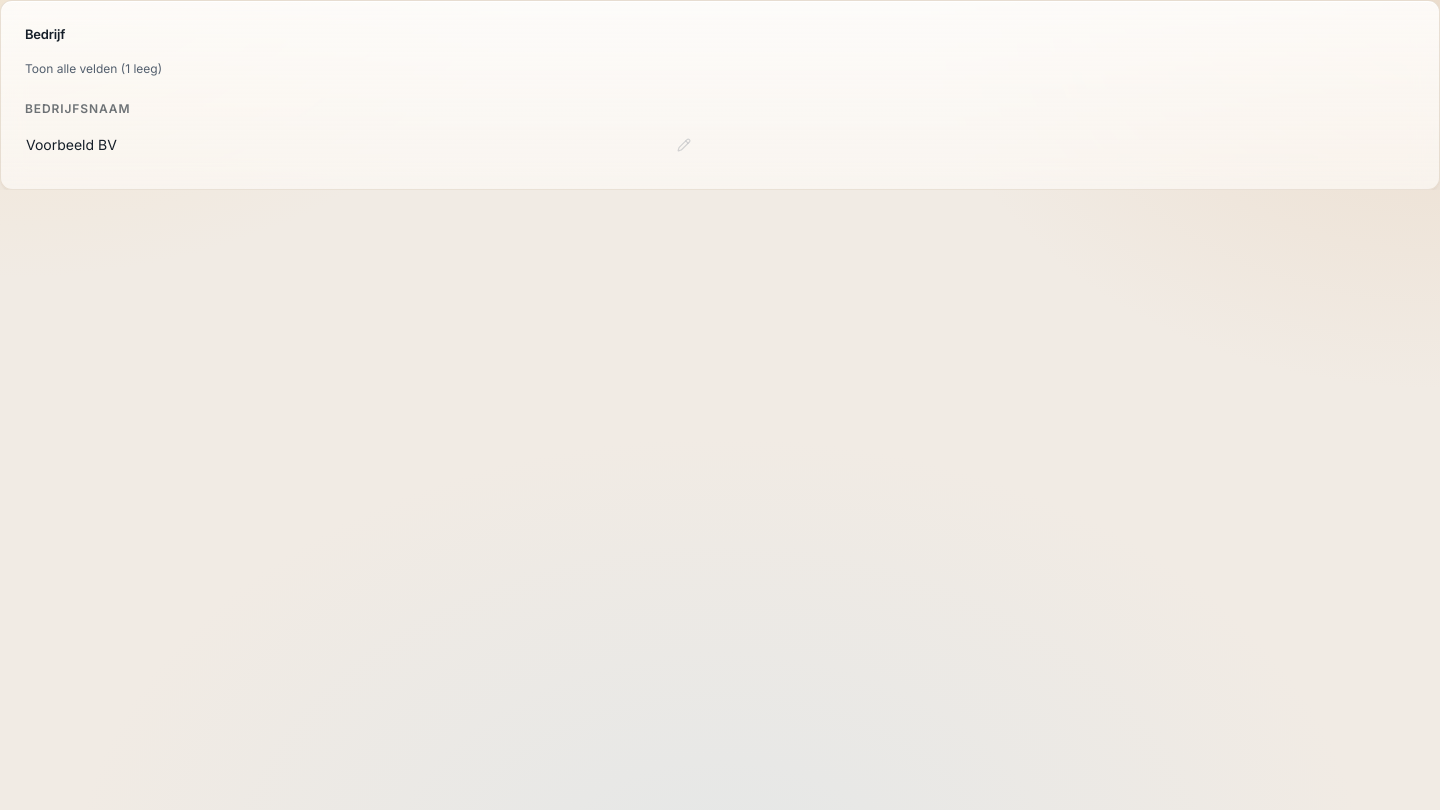
Test case: Direct bewerken Relaties: klik op afzonderlijke veldwaarde › Escape annuleert een tekstveld zonder opslag
The image size is (1440, 810).
Click the button with aria-label "Wijzig Bedrijfsnaam" at (71, 144), box [17,124,700,164]
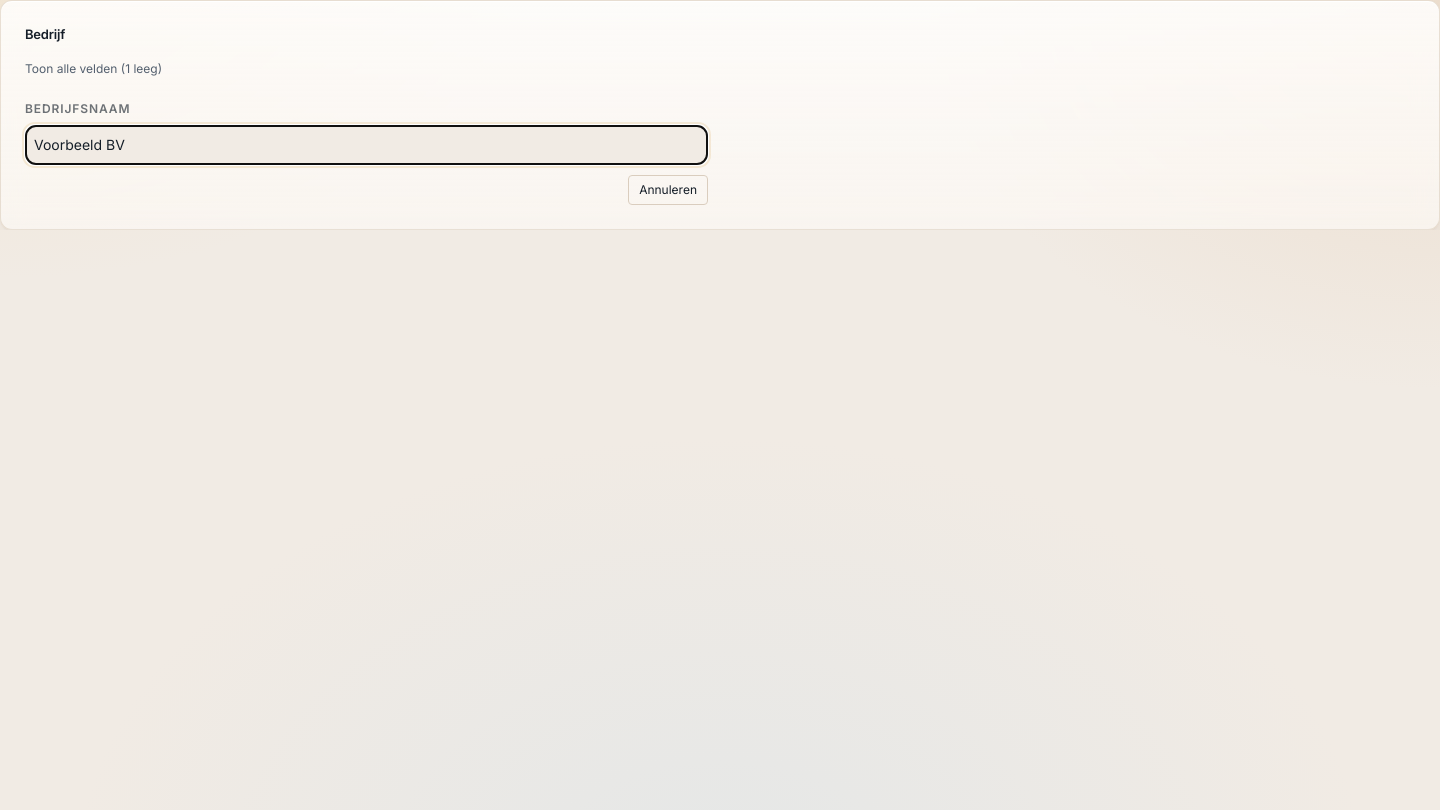
Replace the text in the field labelled "Bedrijfsnaam" with "Niet bewaren" at (366, 144), box [25,124,708,164]
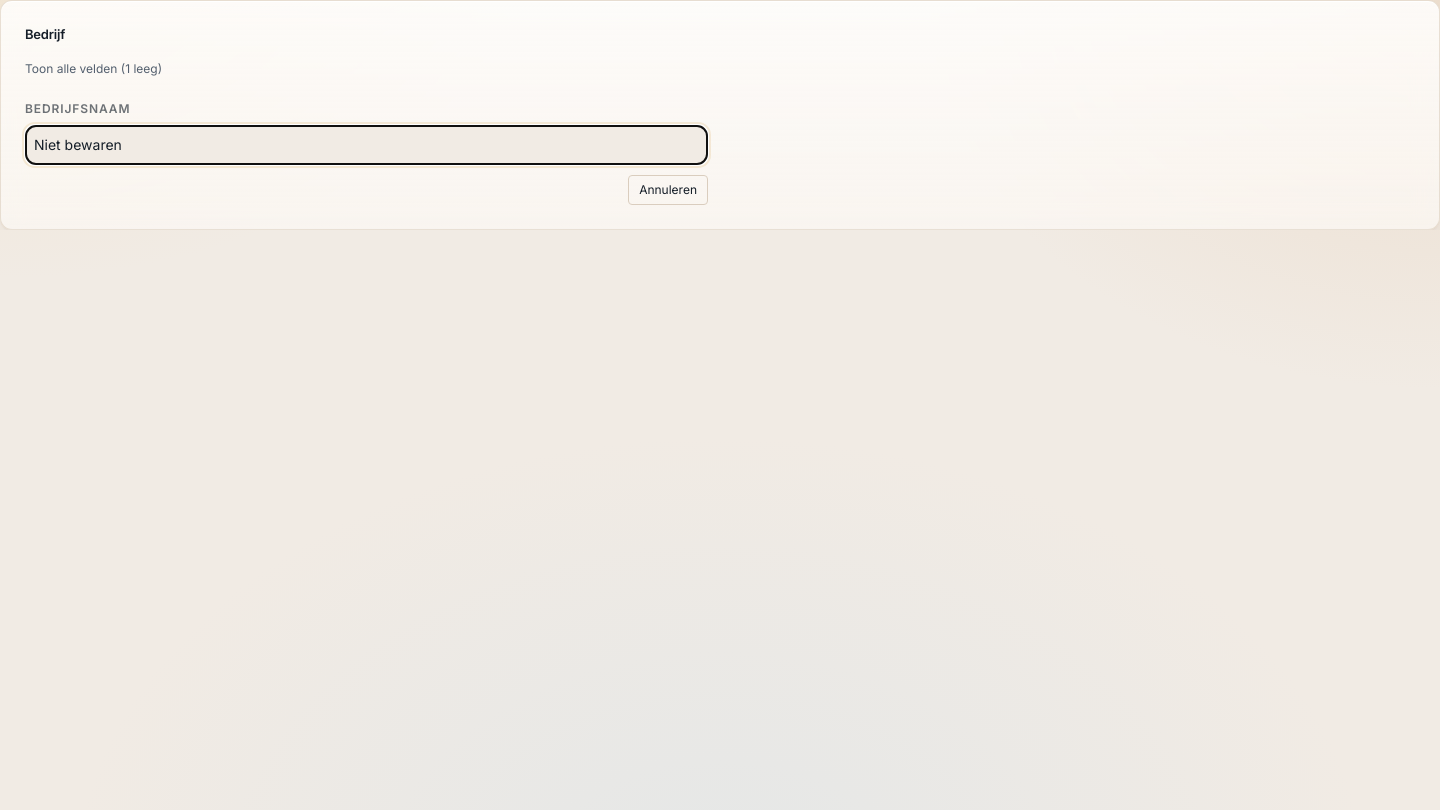
Press Escape in the field labelled "Bedrijfsnaam", box [25,124,708,164]
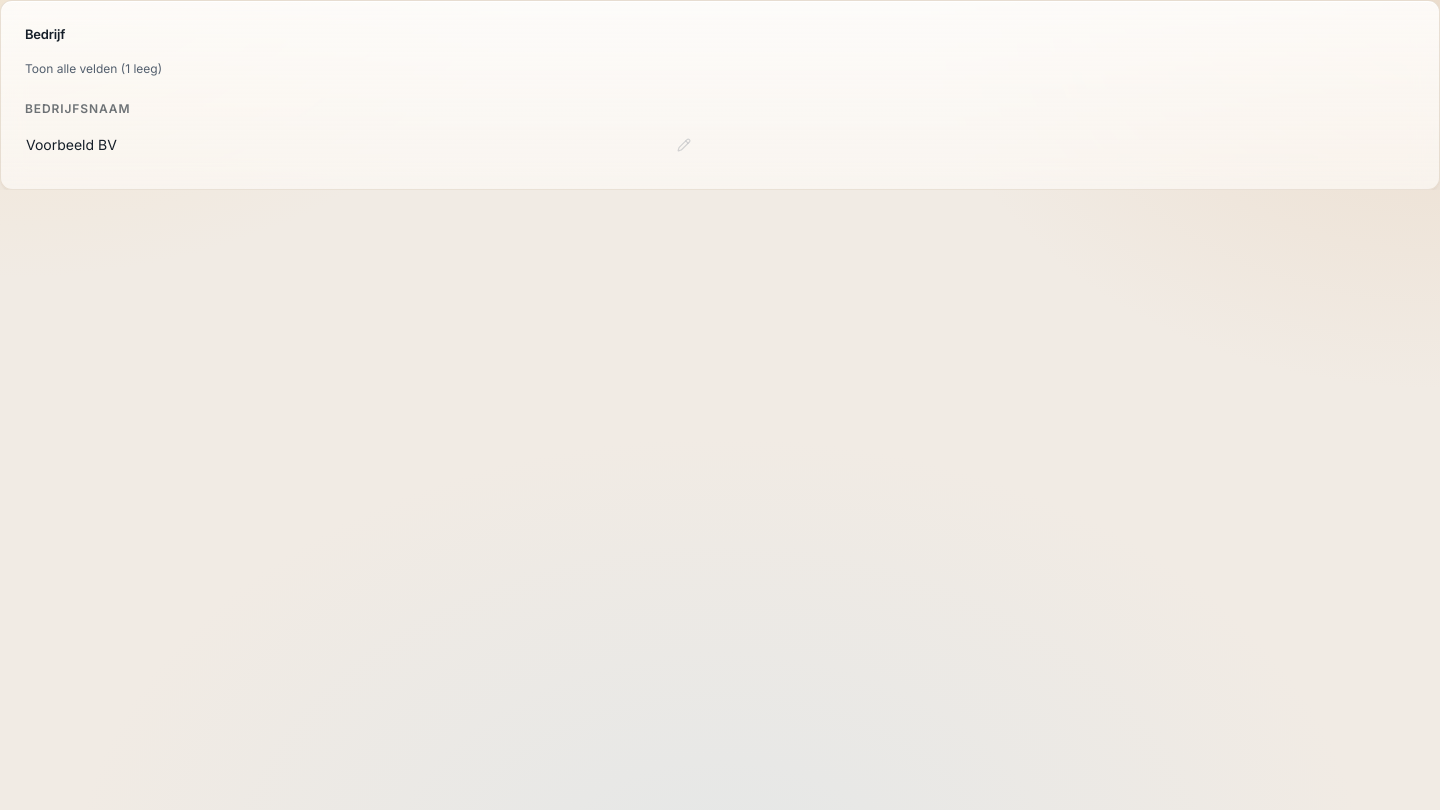
Check: the button with aria-label "Wijzig Bedrijfsnaam" reads "Voorbeeld BV", box [17,124,700,164]
